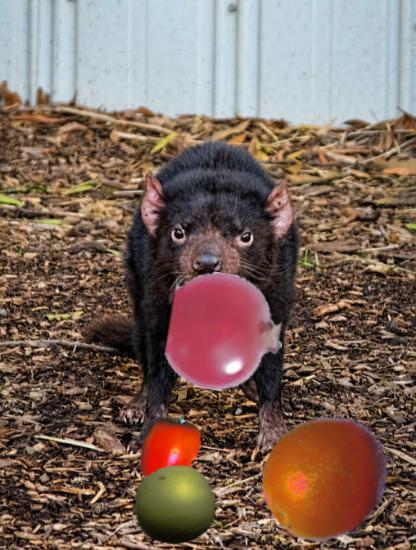Apple: (132, 460, 222, 550)
Kaki: (129, 415, 204, 490)
Redcurrant: (166, 274, 284, 392)
Tangelo: (260, 414, 393, 547)
